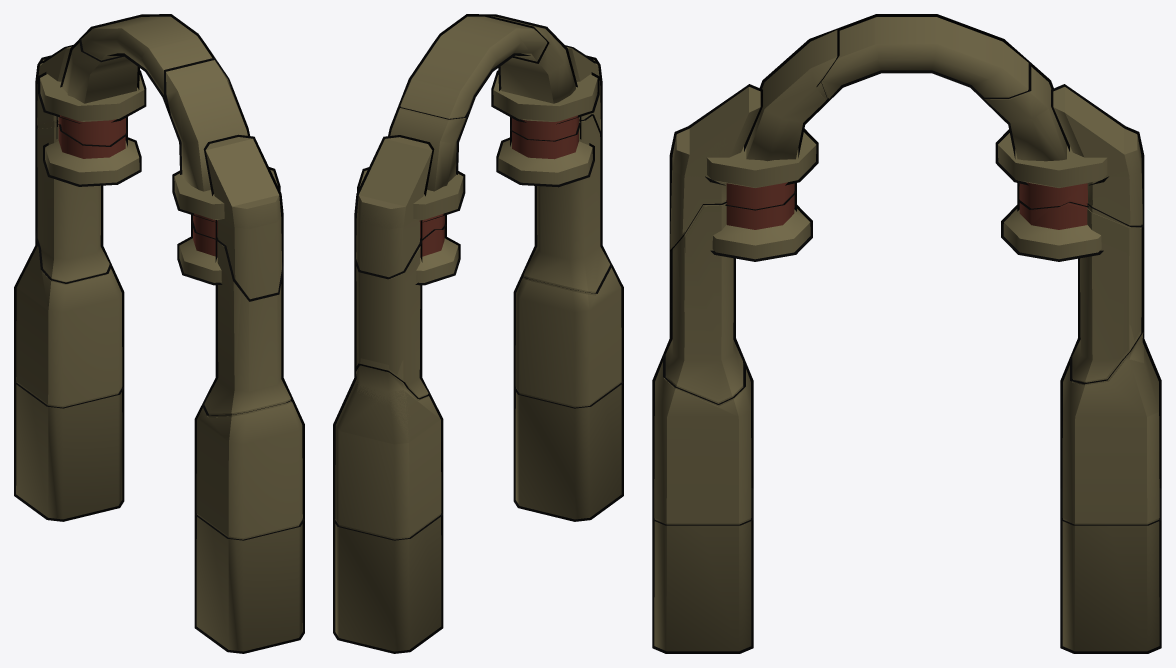
The model's file is Obstacle6.fbx.
3 views of the same model, side by side, from view 1: azimuth 30°, elevation 25°; view 2: azimuth 150°, elevation 25°; view 3: azimuth 270°, elevation 25° (orthographic). The views are drawn at different scales.
Visible parts, largest first — view 1: Cube, Fragments, Fragments.006, Fragments.003, Fragments.004, Fragments.005, Fragments.002, Fragments.001; view 2: Cube, Fragments.006, Fragments, Fragments.005, Fragments.002, Fragments.004, Fragments.003, Fragments.001; view 3: Cube, Fragments.006, Fragments.005, Fragments, Fragments.003, Fragments.004, Fragments.002, Fragments.001.
Boxes of the visible parts, box(x1,y1,x2,y2) form: Cube: box(14, 14, 304, 653); Fragments: box(194, 400, 304, 540); Fragments.006: box(14, 241, 124, 408); Fragments.003: box(164, 57, 283, 301); Fragments.004: box(35, 124, 140, 283); Fragments.005: box(177, 222, 293, 415); Fragments.002: box(36, 39, 146, 146); Fragments.001: box(79, 15, 214, 107); Cube: box(333, 14, 623, 653); Fragments.006: box(333, 363, 443, 540); Fragments: box(514, 265, 623, 408); Fragments.005: box(496, 115, 612, 293); Fragments.002: box(354, 108, 465, 279); Fragments.004: box(354, 225, 460, 399); Fragments.003: box(491, 14, 602, 141); Fragments.001: box(398, 14, 549, 119); Cube: box(652, 14, 1161, 653); Fragments.006: box(1060, 332, 1161, 525); Fragments.005: box(663, 190, 812, 404); Fragments: box(652, 356, 753, 525); Fragments.003: box(669, 28, 839, 252); Fragments.004: box(1001, 201, 1144, 384); Fragments.002: box(984, 63, 1144, 227); Fragments.001: box(821, 14, 1031, 101).
Size of the model in its own units: 250 by 1317 by 1005.
